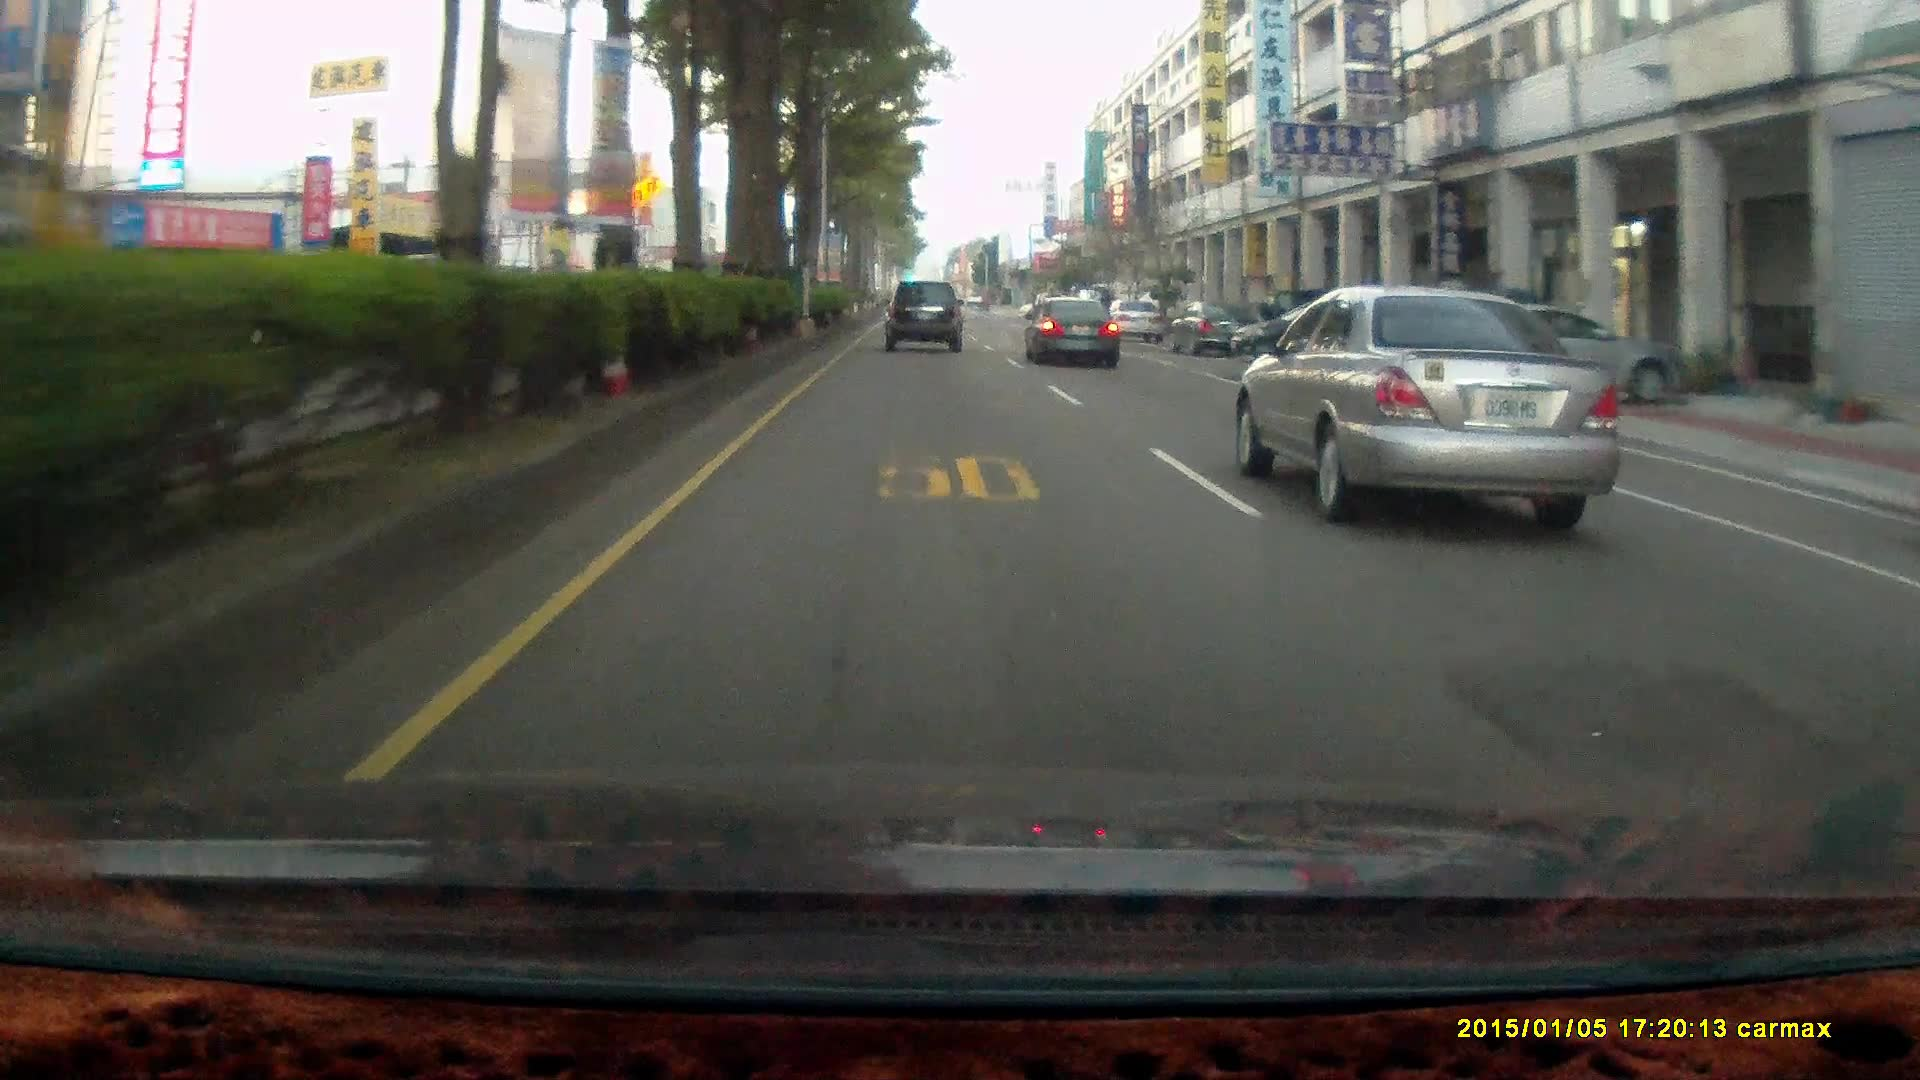vehicle: (1226, 286, 1636, 530), (1414, 301, 1691, 407), (1232, 295, 1404, 364), (1026, 293, 1125, 365), (1022, 293, 1117, 367), (886, 280, 967, 357), (881, 278, 964, 349), (1164, 297, 1251, 353), (1105, 295, 1163, 345), (1105, 294, 1162, 343)
